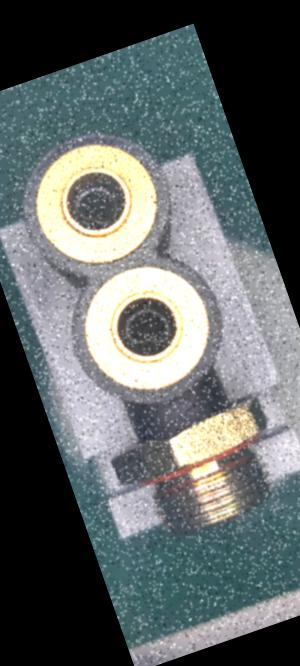craze: (176, 396, 204, 416)
off-centered: (58, 171, 130, 237), (115, 298, 179, 358)
